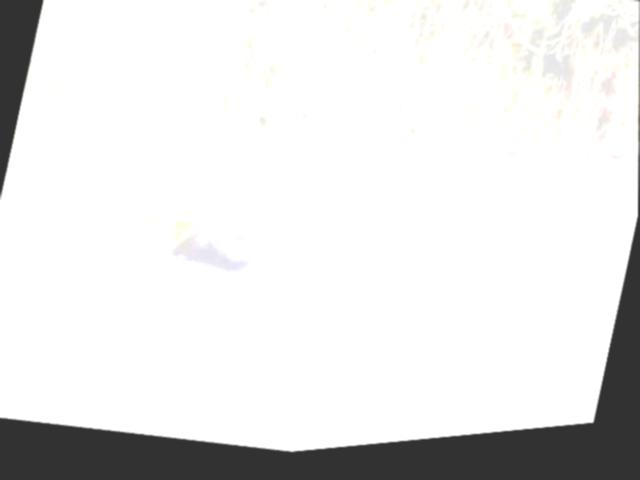iha: (26, 103, 343, 343)
